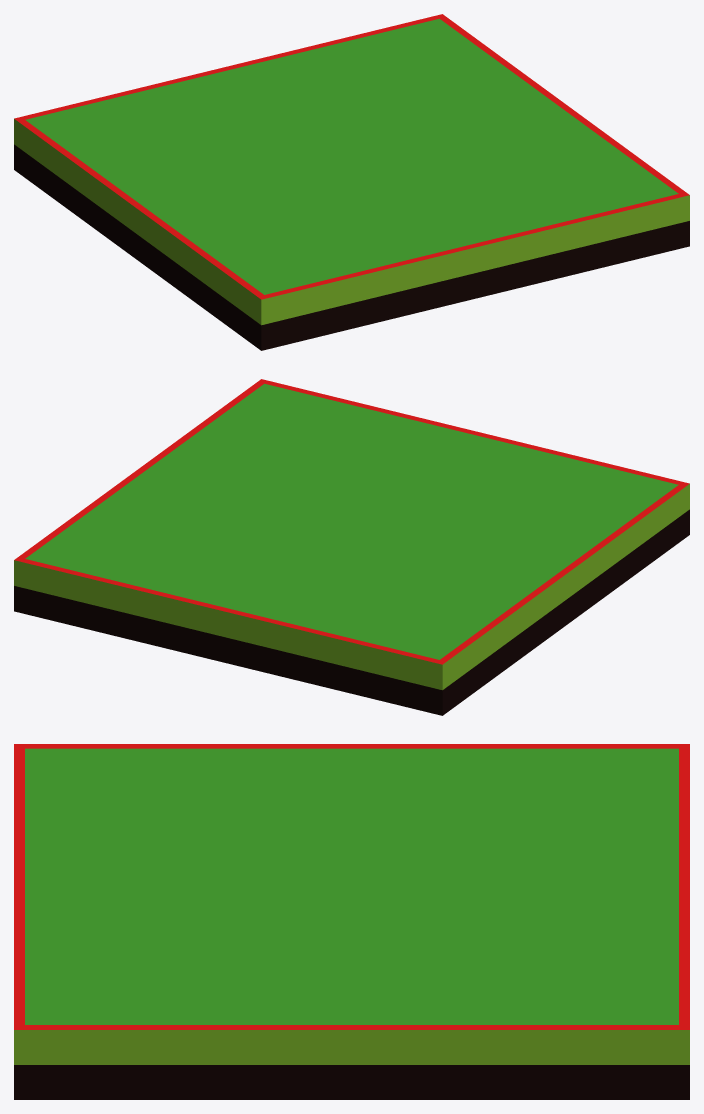
Rendered from Tile_1.FBX.
3 views of the same model, one above another, from view 1: azimuth 30°, elevation 25°; view 2: azimuth 150°, elevation 25°; view 3: azimuth 270°, elevation 25° (orthographic). The views are drawn at different scales.
Parts seen in each view (by area): view 1: Box003; view 2: Box003; view 3: Box003.
Part boxes in pixels (x1=…): Box003: x1=14, y1=14, x2=689, y2=350; Box003: x1=14, y1=379, x2=689, y2=715; Box003: x1=14, y1=744, x2=689, y2=1099.
Bounding box in the file's own units: 37.84 × 4.32 × 37.84.
